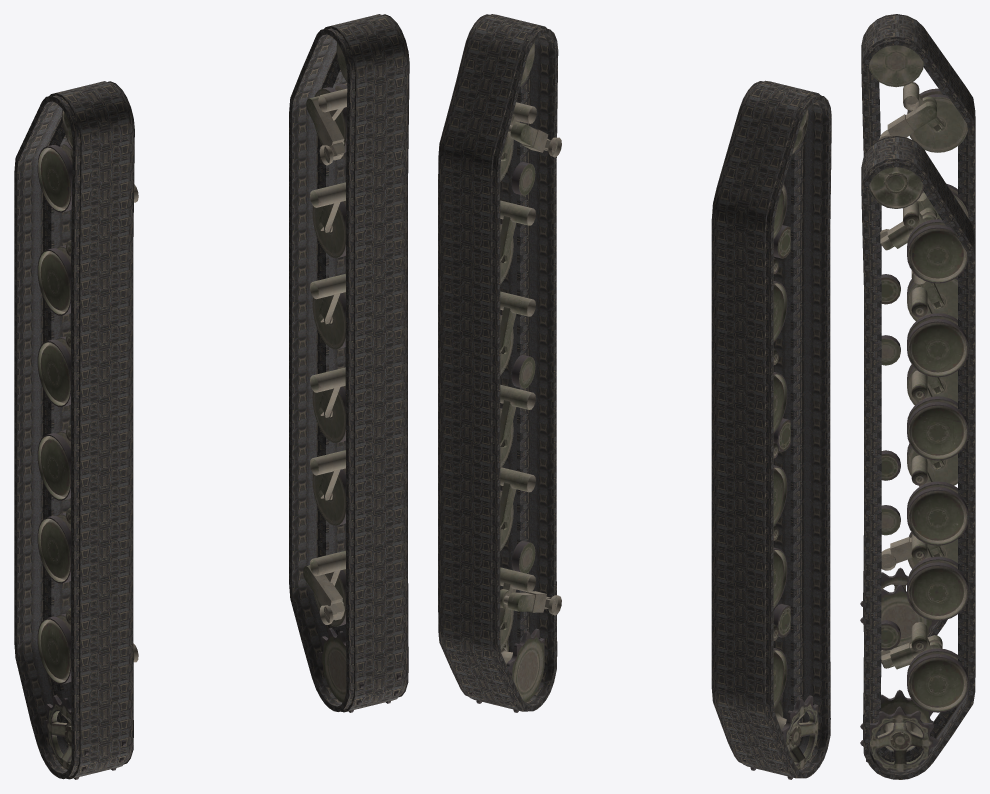
File: Chassis.glb
3 views of the same model, side by side, from view 1: azimuth 30°, elevation 25°; view 2: azimuth 150°, elevation 25°; view 3: azimuth 270°, elevation 25° (orthographic). The views are drawn at different scales.
Parts seen in each view (by area): view 1: set_1_group_0, set_0_group_0, set_3_group_0, set_2_group_0; view 2: set_1_group_0, set_0_group_0, set_3_group_0, set_2_group_0; view 3: set_3_group_0, set_0_group_0, set_2_group_0, set_1_group_0.
Part boxes in pixels (x1,y1,x2,y2): set_1_group_0: [14, 81, 134, 779]; set_0_group_0: [289, 14, 409, 712]; set_3_group_0: [303, 42, 401, 712]; set_2_group_0: [37, 110, 138, 779]; set_1_group_0: [711, 80, 831, 778]; set_0_group_0: [438, 14, 558, 711]; set_3_group_0: [469, 42, 561, 712]; set_2_group_0: [743, 109, 818, 779]; set_3_group_0: [860, 167, 968, 770]; set_0_group_0: [861, 136, 975, 779]; set_2_group_0: [860, 45, 968, 647]; set_1_group_0: [861, 14, 975, 636].
Bounding box in the file's own units: 3.12 × 6.11 × 1.02.
4 materials, 4 textured.
